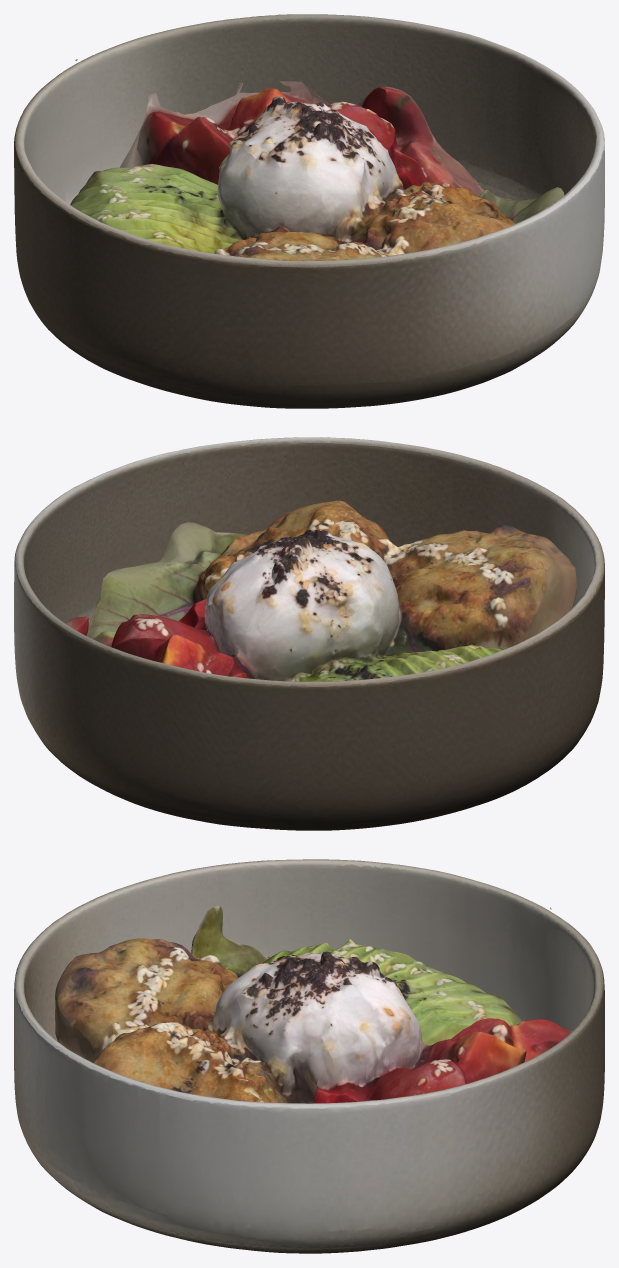
File: set.bowle.with.crispy.002.glb
3 renders of one model, top to bottom at view 1: azimuth 30°, elevation 25°; view 2: azimuth 150°, elevation 25°; view 3: azimuth 270°, elevation 25°, orthographic.
Parts seen in each view (by area): view 1: /Root/Scenes/Scene/Object_37/Object_39/Object_40/Submesh_0, /Root/Scenes/Scene/Object_37/Object_38/Submesh_0; view 2: /Root/Scenes/Scene/Object_37/Object_39/Object_40/Submesh_0, /Root/Scenes/Scene/Object_37/Object_38/Submesh_0; view 3: /Root/Scenes/Scene/Object_37/Object_39/Object_40/Submesh_0, /Root/Scenes/Scene/Object_37/Object_38/Submesh_0.
Boxes of the visible parts, box(x1,y1,x2,y2) form: /Root/Scenes/Scene/Object_37/Object_39/Object_40/Submesh_0: box(14, 14, 604, 408); /Root/Scenes/Scene/Object_37/Object_38/Submesh_0: box(70, 59, 564, 260); /Root/Scenes/Scene/Object_37/Object_39/Object_40/Submesh_0: box(14, 437, 604, 830); /Root/Scenes/Scene/Object_37/Object_38/Submesh_0: box(65, 500, 576, 681); /Root/Scenes/Scene/Object_37/Object_39/Object_40/Submesh_0: box(14, 859, 604, 1253); /Root/Scenes/Scene/Object_37/Object_38/Submesh_0: box(55, 905, 572, 1103).
Size of the model in its own units: 0.2045 by 0.0747 by 0.2044.
2 materials, 2 textured.
